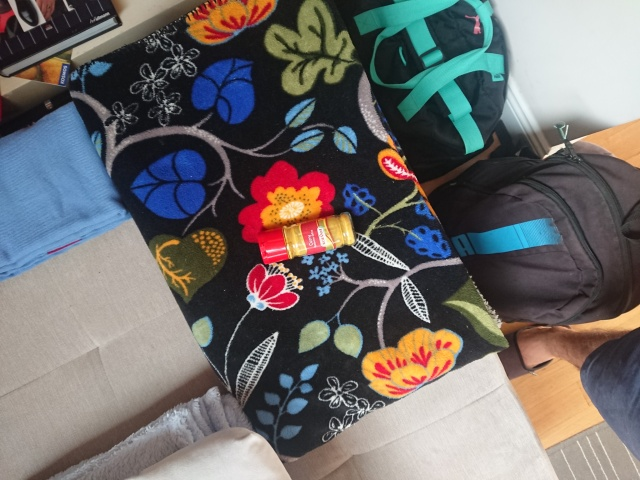Kotanyi Curry Spices Mix 70g: (255, 210, 358, 266)
